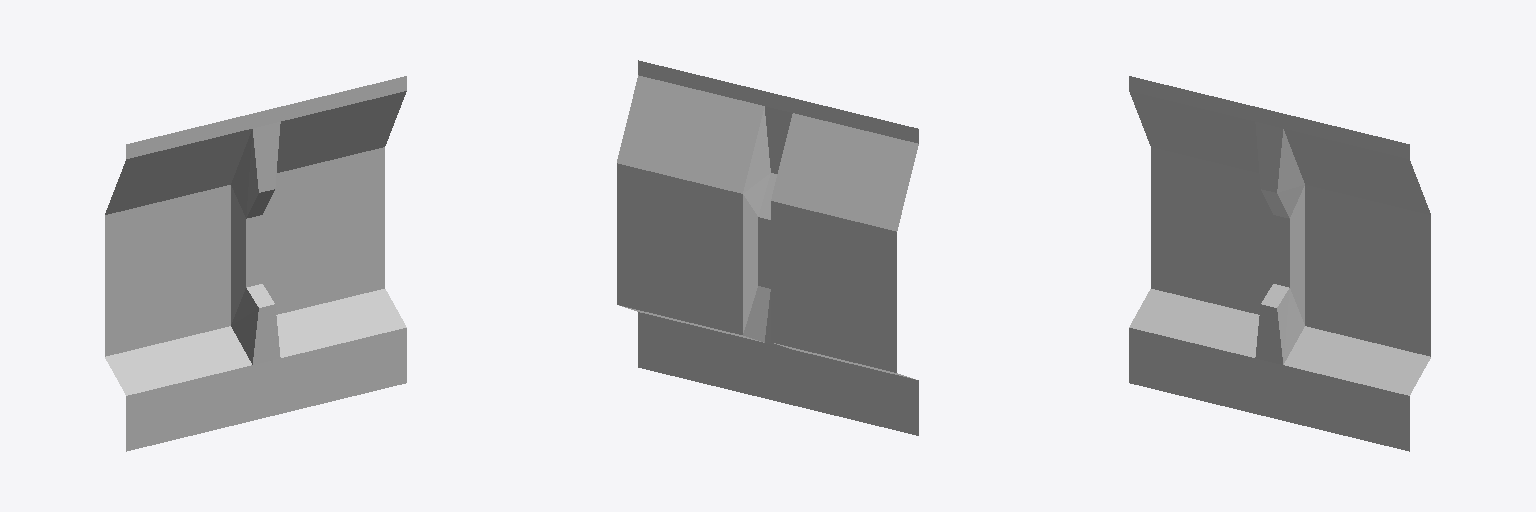
File: Wall Panel 2.obj
3 views of the same model, side by side, from view 1: azimuth 30°, elevation 25°; view 2: azimuth 150°, elevation 25°; view 3: azimuth 330°, elevation 25° (orthographic).
Visible parts, largest first — view 1: Plane; view 2: Plane; view 3: Plane.
Boxes of the visible parts, x1=… form: Plane: x1=105, y1=76, x2=406, y2=451; Plane: x1=617, y1=60, x2=918, y2=435; Plane: x1=1129, y1=76, x2=1430, y2=451.
Size of the model in its own units: 5.87 by 6.14 by 0.8055.